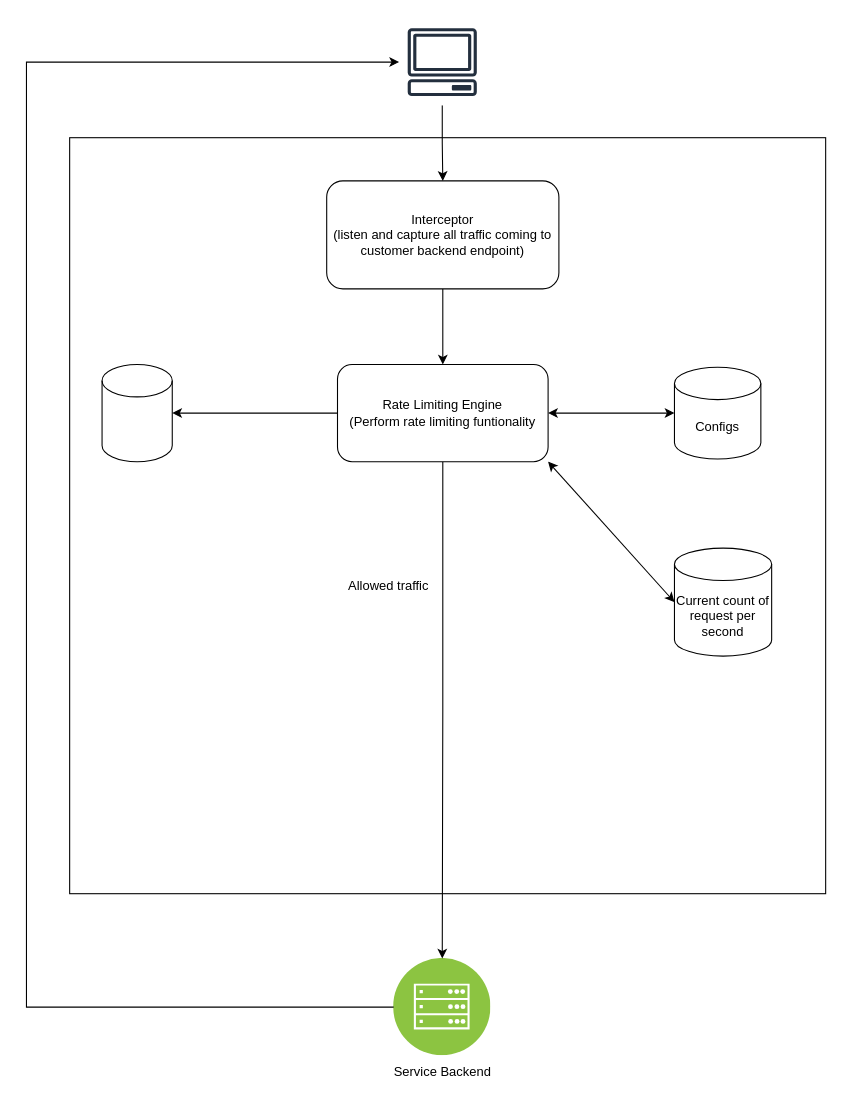
Image size: 845x1107. Some labels were removed from this diagram. The centre of each missing label's shape, as x and y in pixels:
"Client" belongs at [441,61].
"logging" belongs at [136,412].
